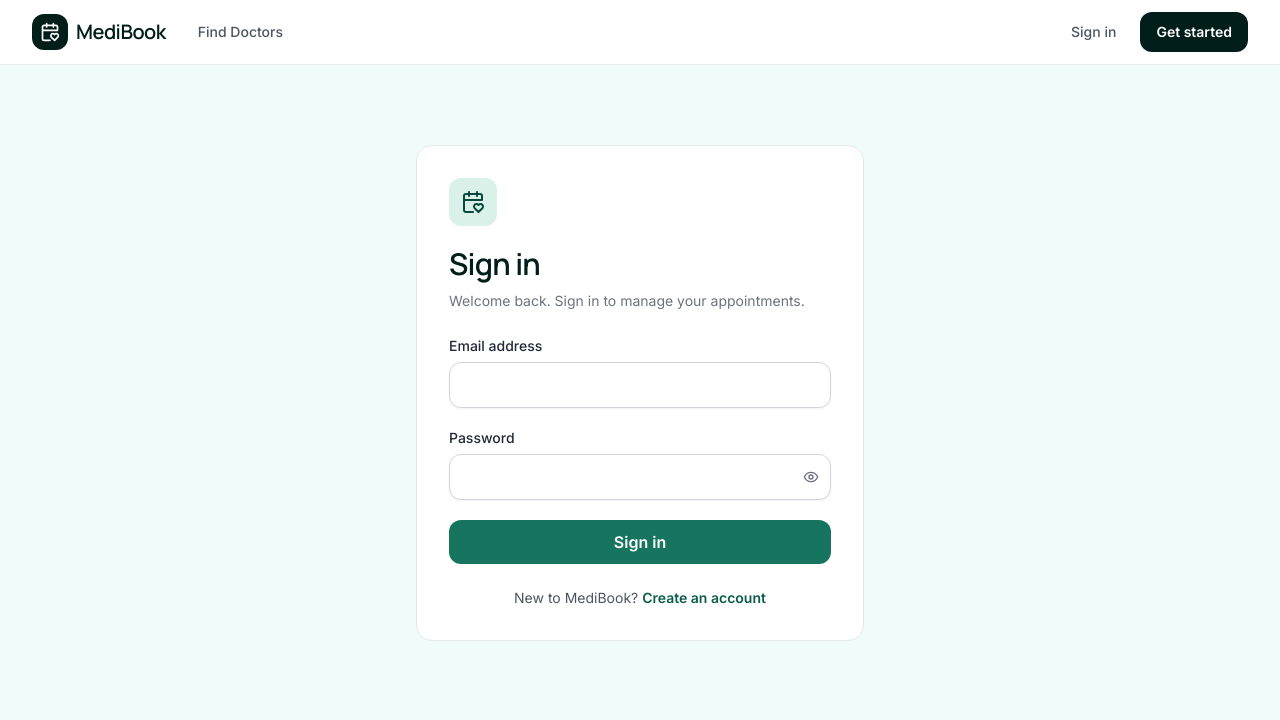
Scenario: Authentication flows with the real provider and route guards › returns a patient to the requested booking route after login
The width and height of the screenshot is (1280, 720).
Type "patient@example.test" into the field labelled "Email address". click: coordinates (640, 385)
box: [449, 362, 831, 408]
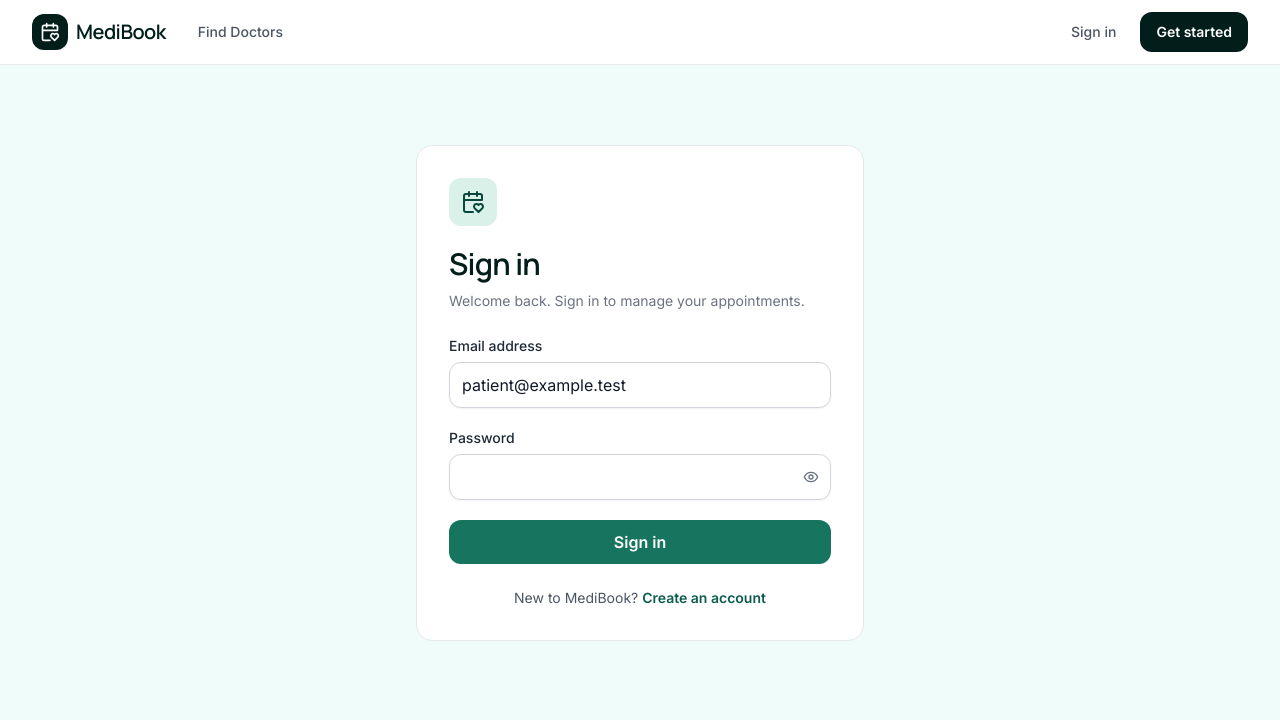
Type "Password1" into the password field labelled "Password". click: coordinates (640, 477)
box: [449, 454, 831, 500]
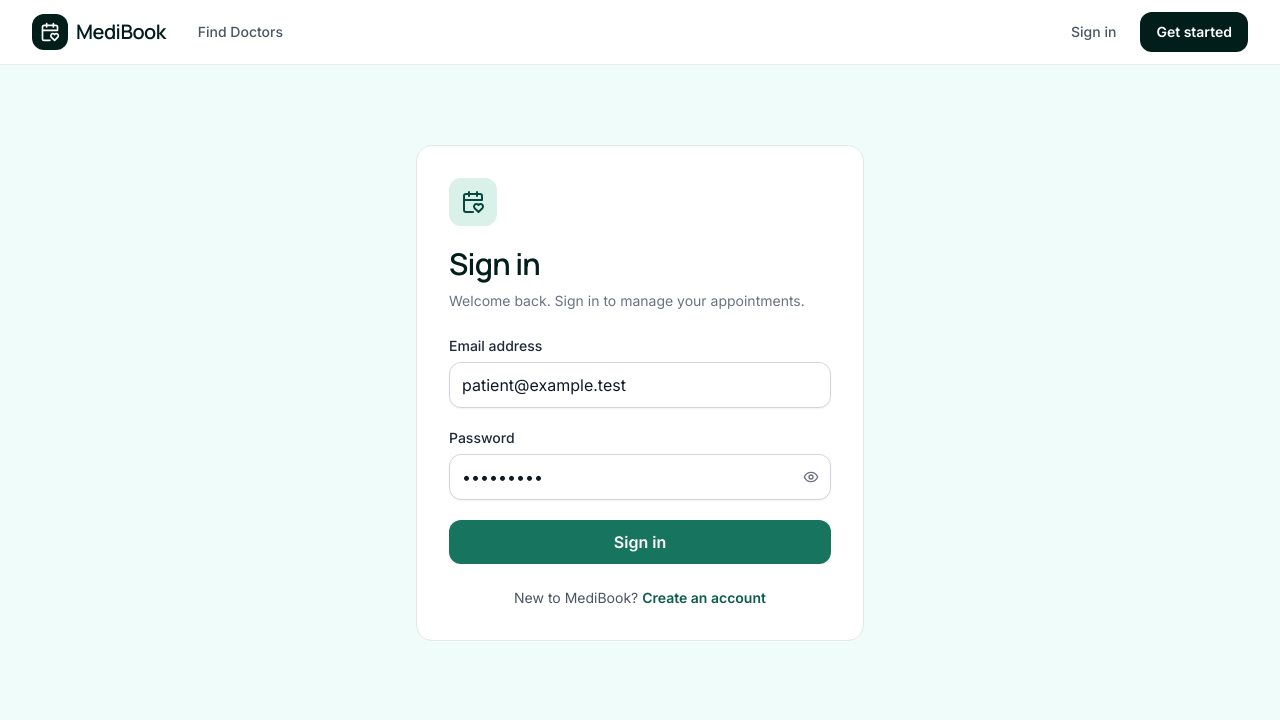
Click the button "Sign in". click: coordinates (640, 542)
box: [449, 520, 831, 564]
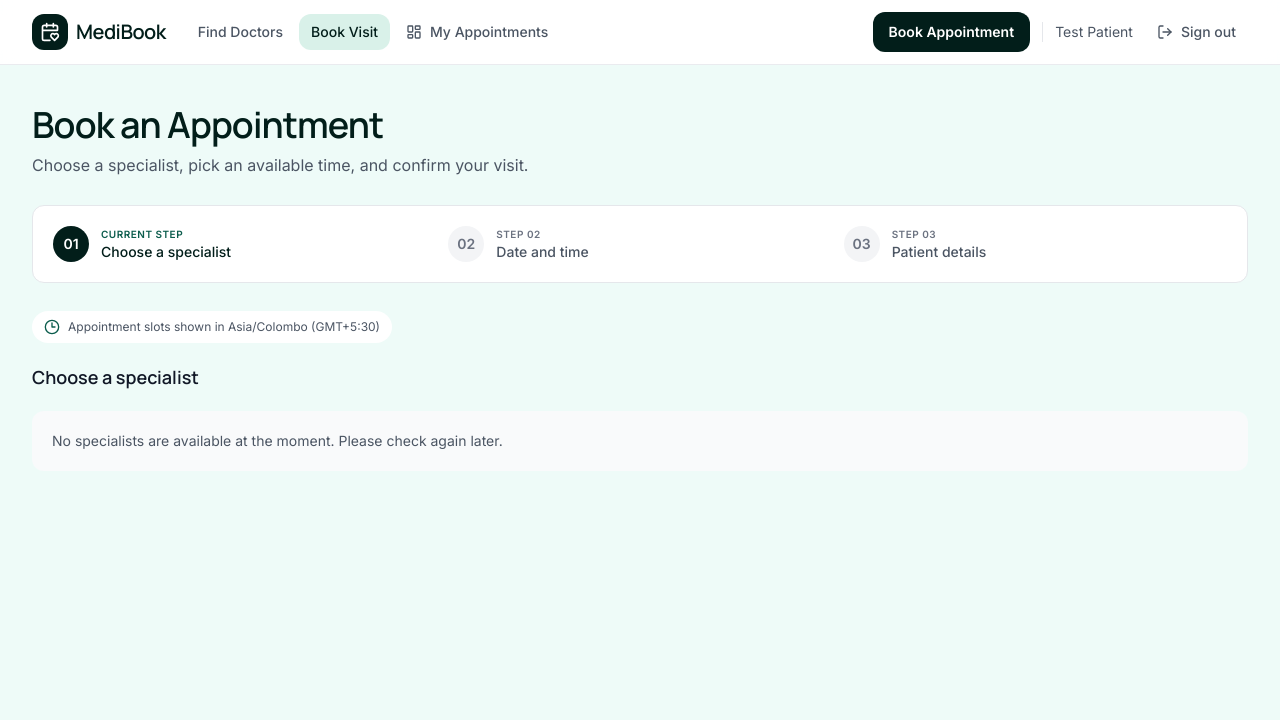
Expected: the heading "Book an Appointment" is shown, [32, 100, 383, 149]
Expected: the text "Test Patient" is shown, [1042, 22, 1133, 42]
